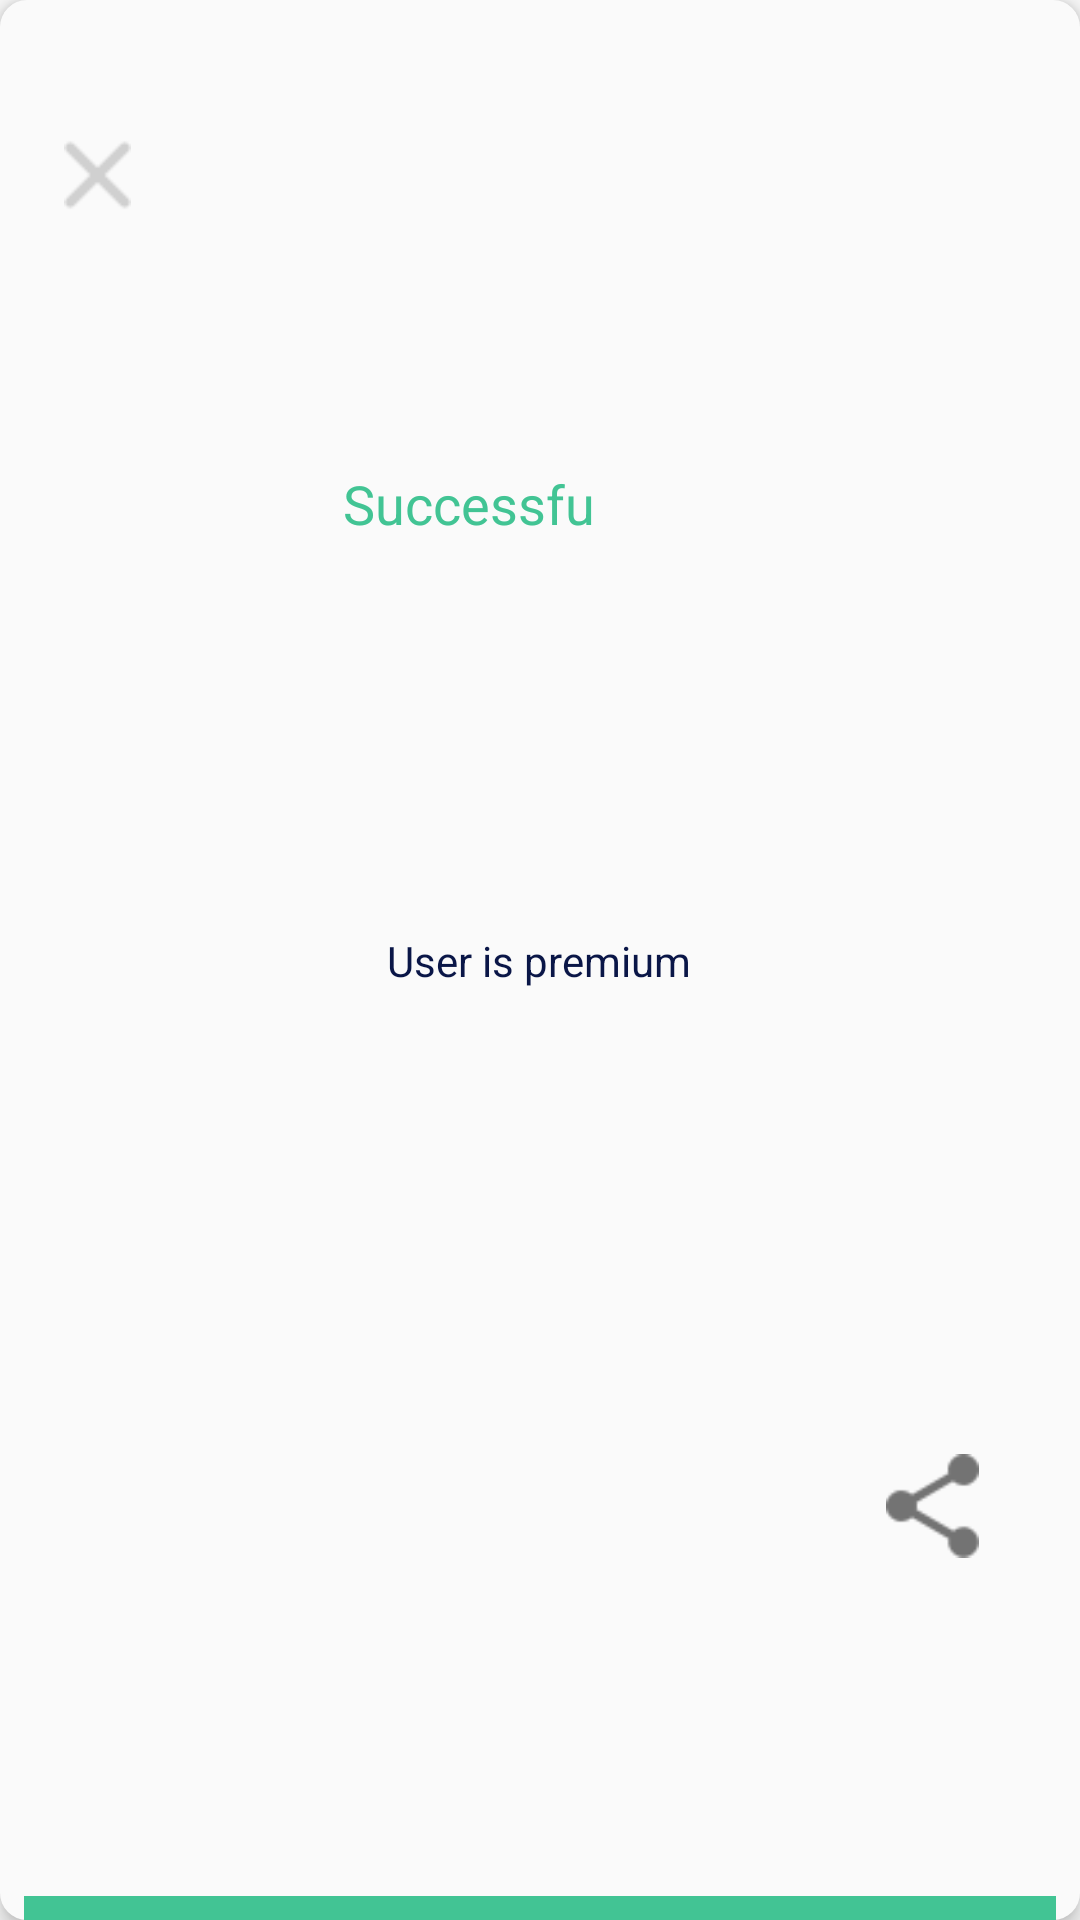

Point at icon controls on the screen. Image size 1080x1920, points as (x,y).
close: (97,175)
share: (932,1506)
